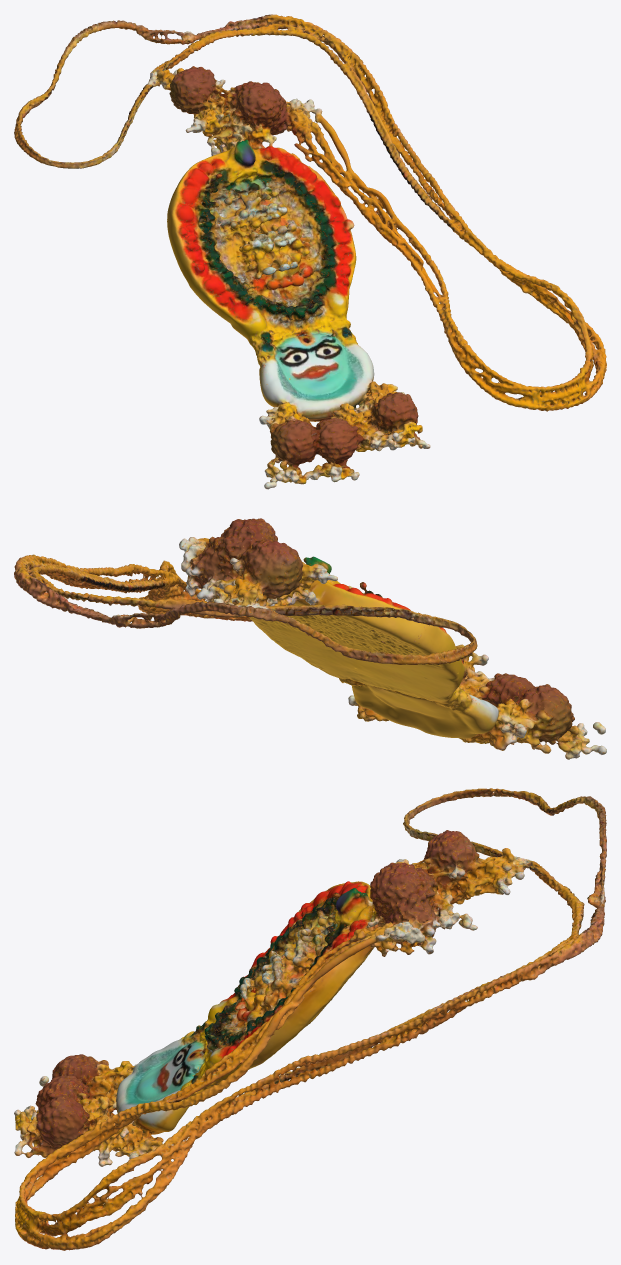
File: ornament1-compressed.glb
3 renders of one model, top to bottom at view 1: azimuth 30°, elevation 25°; view 2: azimuth 150°, elevation 25°; view 3: azimuth 270°, elevation 25°, orthographic. The views are drawn at different scales.
Visible parts, largest first — view 1: mesh_0; view 2: mesh_0; view 3: mesh_0.
Boxes of the visible parts, x1,y1,x2,y2 form: mesh_0: [14, 14, 606, 489]; mesh_0: [14, 518, 606, 759]; mesh_0: [14, 788, 606, 1250].
Size of the model in its own units: 1.9 by 1.2 by 2.
Materials: 1 (1 with a texture image).
